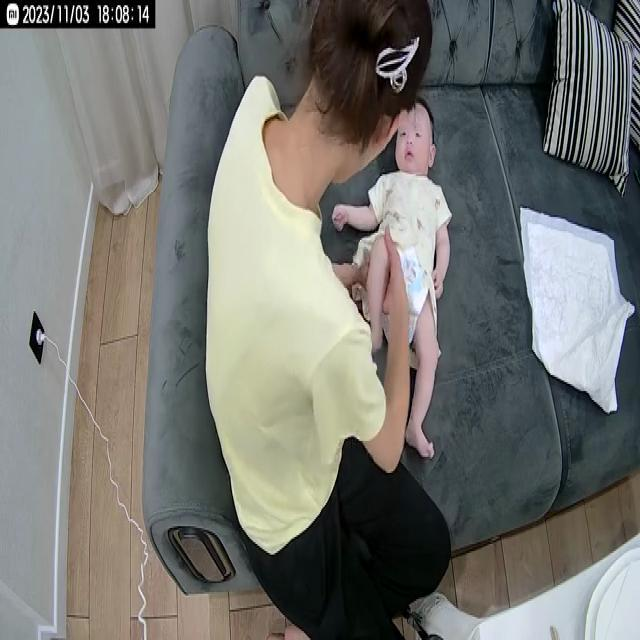baby: (329, 94, 458, 461)
